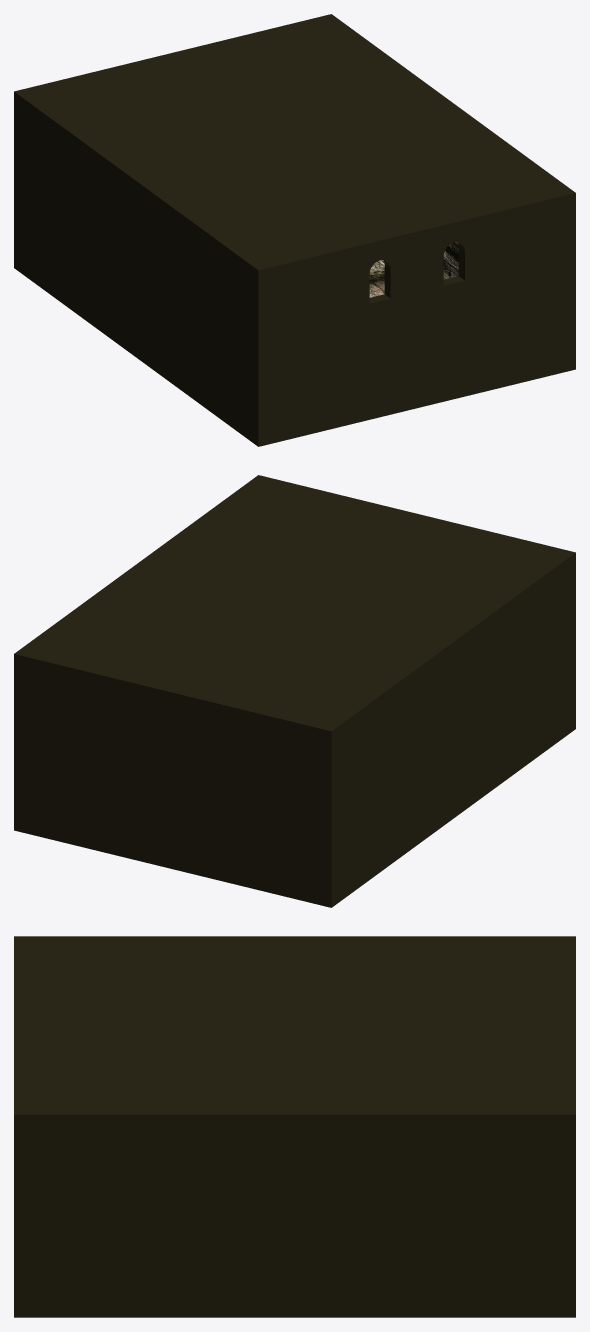
Rendered from room2.dae.
The picture shows the model from 3 angles, top to bottom: view 1: azimuth 30°, elevation 25°; view 2: azimuth 150°, elevation 25°; view 3: azimuth 270°, elevation 25°; orthographic projection. The views are drawn at different scales.
Visible parts, largest first — view 1: Room; view 2: Room; view 3: Room.
Part boxes in pixels (box(x1,y1,x2,y2)): Room: box(14, 14, 575, 446); Room: box(14, 475, 575, 907); Room: box(14, 936, 575, 1317).
Bounding box in the file's own units: 30 × 40 × 15.94.
1 material, 1 textured.
